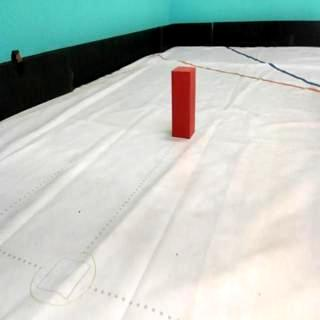redbox: (172, 65, 195, 138)
